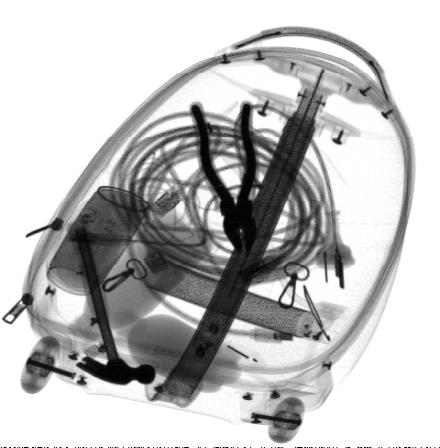Hammer: (66, 219, 156, 386)
Pliers: (189, 101, 261, 254)
